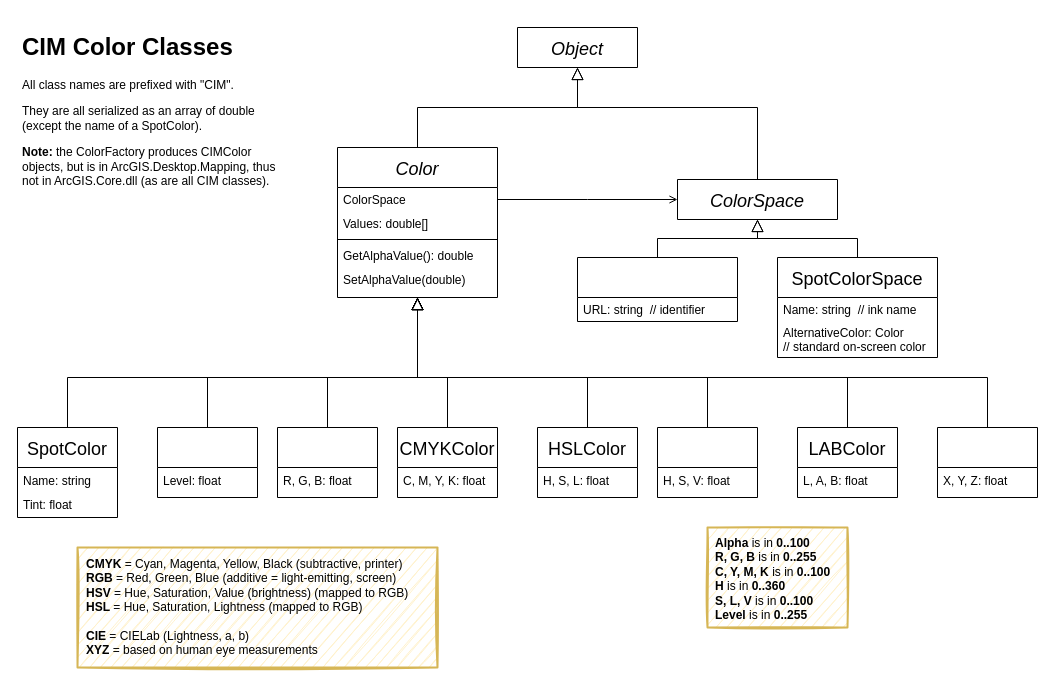
Image size: 1055x685. Some labels were removed from this diagram. Here are the shapes that lost their labels. From the top down, the box of each, then its label:
(576, 256, 738, 322): ICCColorSpace
(156, 426, 258, 498): GrayColor
(276, 426, 378, 498): RGBColor
(656, 426, 758, 498): HSVColor
(936, 426, 1038, 498): XYZColor
